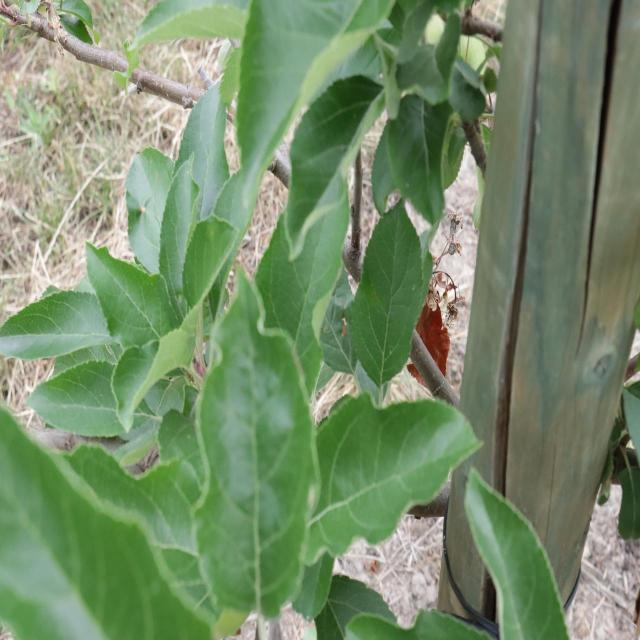-FireBlight-: (428, 280, 455, 376)
